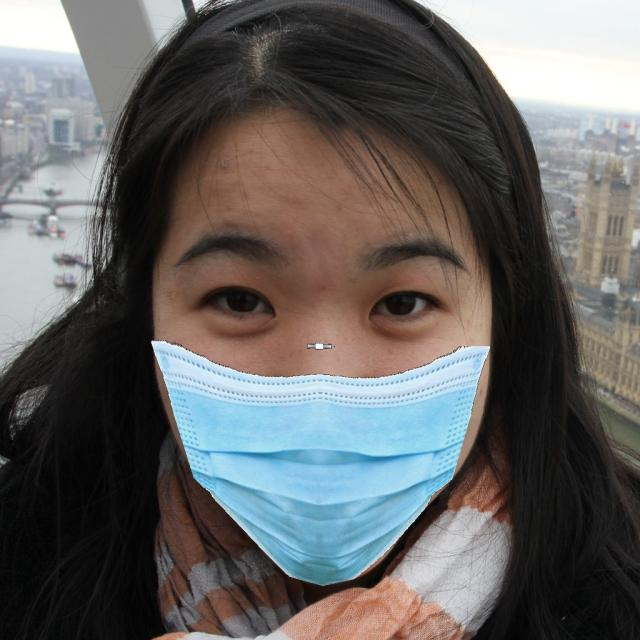1_mascarilla: (149, 334, 494, 587)
